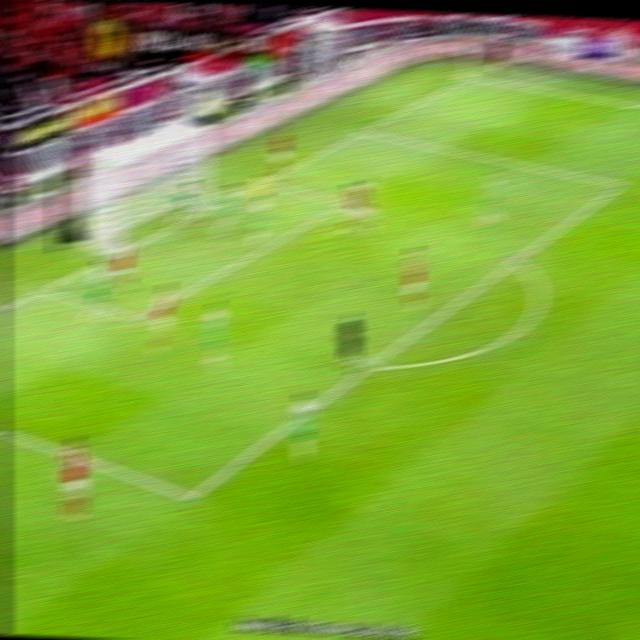bigarea_bottom_inner: (170, 477, 208, 513)
bigarea_top_inner: (607, 173, 631, 194)
bigarea_top_outter: (351, 120, 376, 138)
bottom_arc_area_intersection: (357, 355, 383, 376)
corner: (454, 69, 481, 84)
smallarea_bottom_inner: (122, 303, 150, 331)
smallarea_bottom_outter: (29, 275, 55, 300)
smallarea_top_inner: (331, 192, 354, 212)
smallarea_top_outter: (249, 171, 272, 190)
top_arc_area_intersection: (505, 248, 528, 268)
